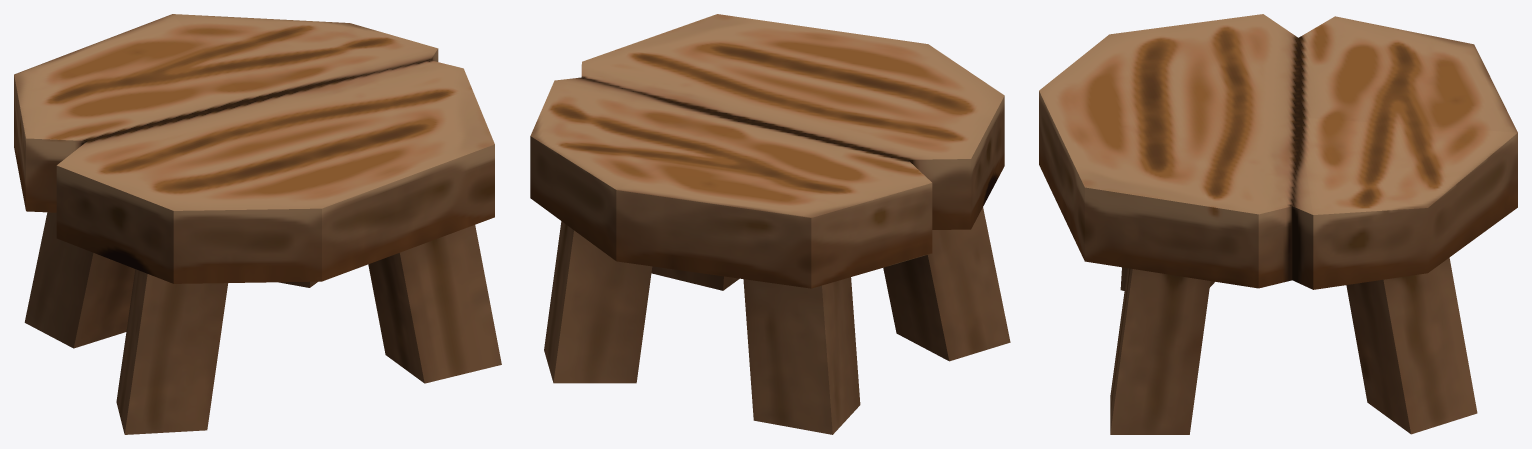
Rendered from Stool.fbx.
3 renders of one model, left to right at view 1: azimuth 30°, elevation 25°; view 2: azimuth 150°, elevation 25°; view 3: azimuth 270°, elevation 25°, orthographic. The views are drawn at different scales.
Visible parts, largest first — view 1: stool; view 2: stool; view 3: stool.
Boxes of the visible parts, box(x1,y1,x2,y2) form: stool: box(14, 14, 501, 434); stool: box(530, 14, 1010, 434); stool: box(1039, 14, 1517, 434).
Size of the model in its own units: 0.7485 by 0.4149 by 0.7533.
